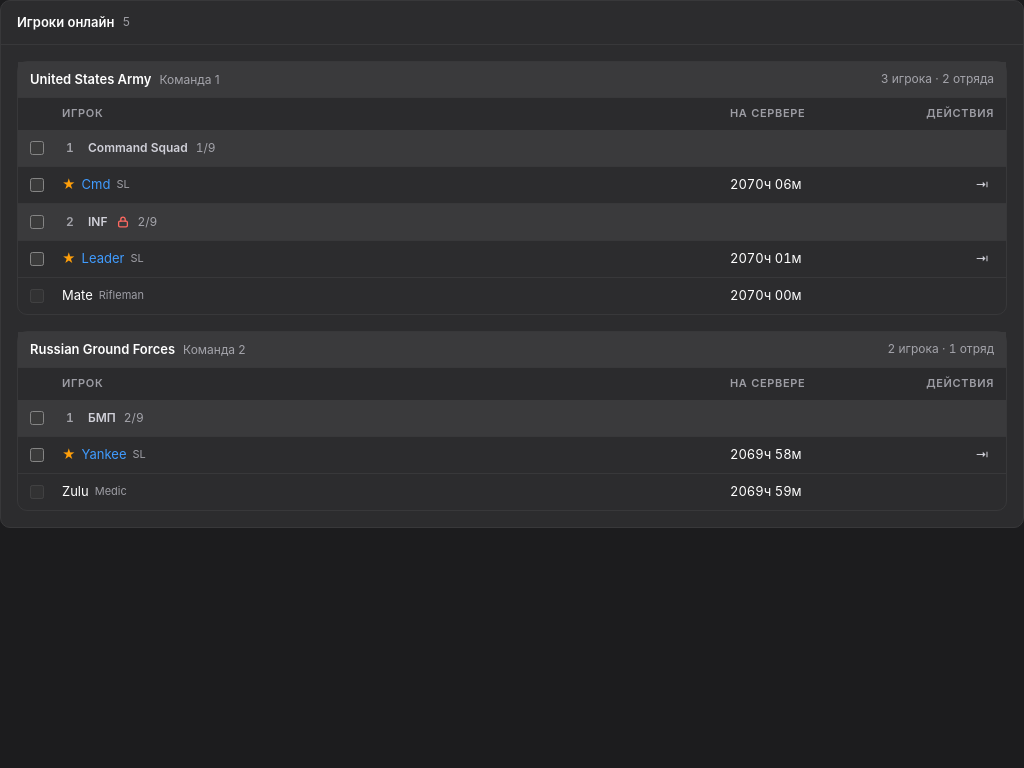
LivePlayers — быстрые действия над игроком › refuses to kick without a reason and posts a single-target kick once one is given
The image size is (1024, 768).
Expected: the link "Leader" is shown, [82,249,124,268]
Click the button named "Кик: Leader".
click(982, 259)  # box [970,247,994,271]
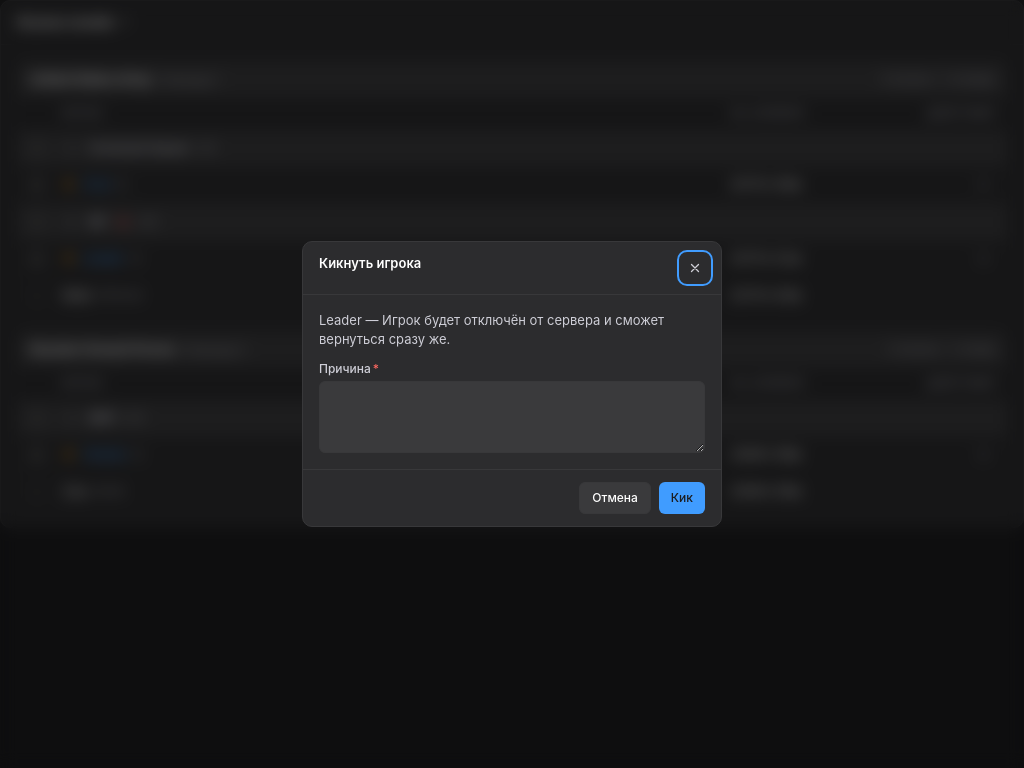
Expected: the heading "Кикнуть игрока" is shown, [319,254,421,273]
Click the button "Кик".
click(682, 498)  # box [659,482,705,514]
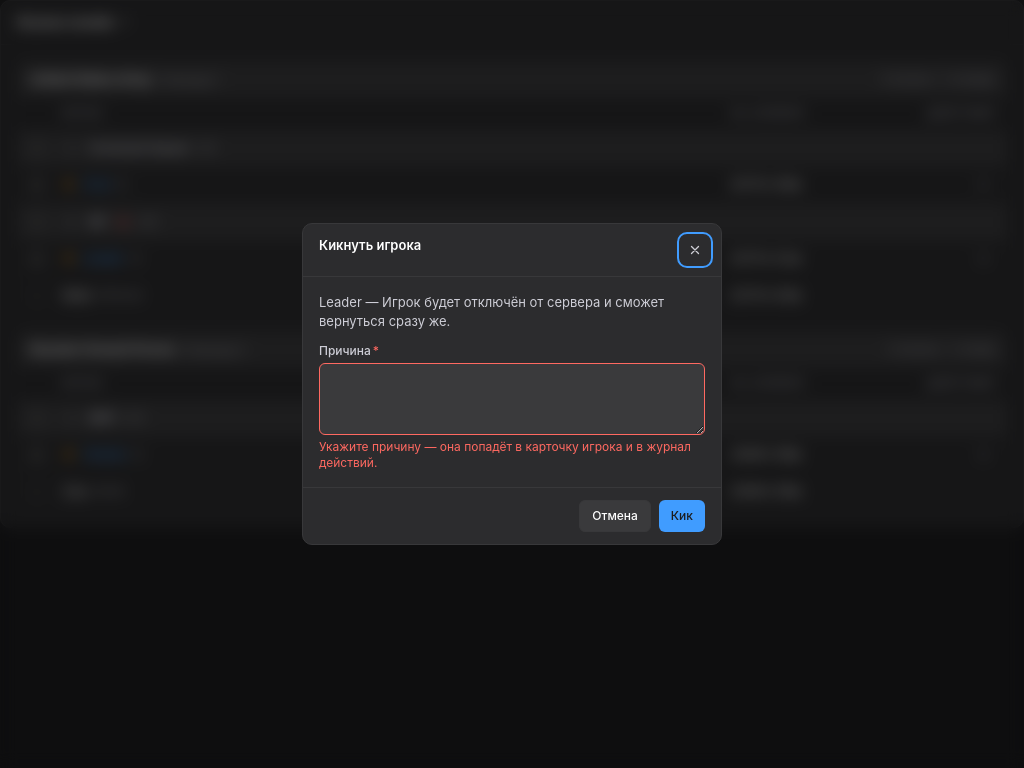
Expected: the message shows "Укажите причину", [319,439,691,470]
Type "тимкил" into the text box labelled "Причина*".
click(512, 399); type("тимкил")  # box [319,363,705,435]
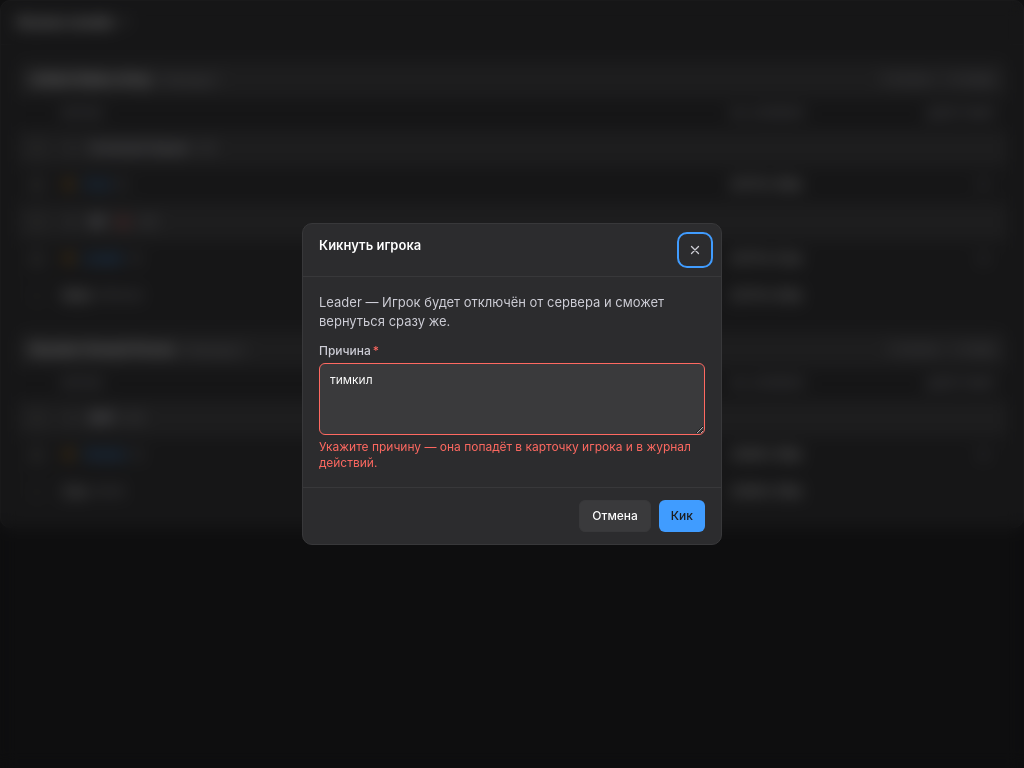
Click the button "Кик".
click(682, 516)  # box [659,500,705,532]
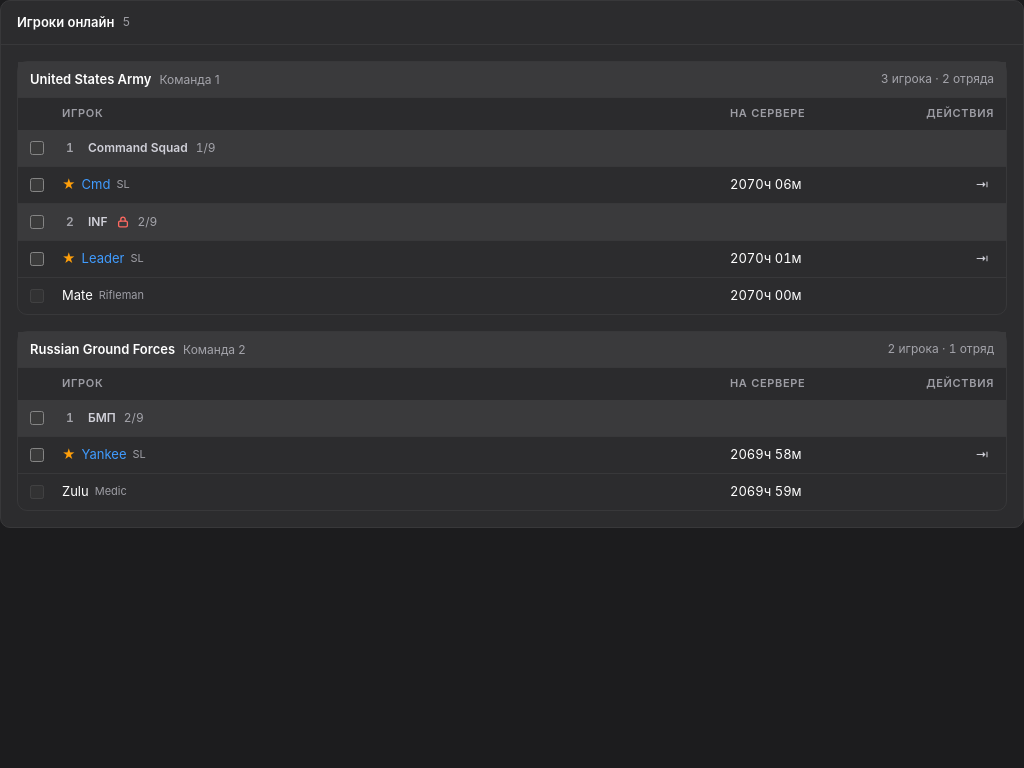
Expected: the heading "Кикнуть игрока" is gone
